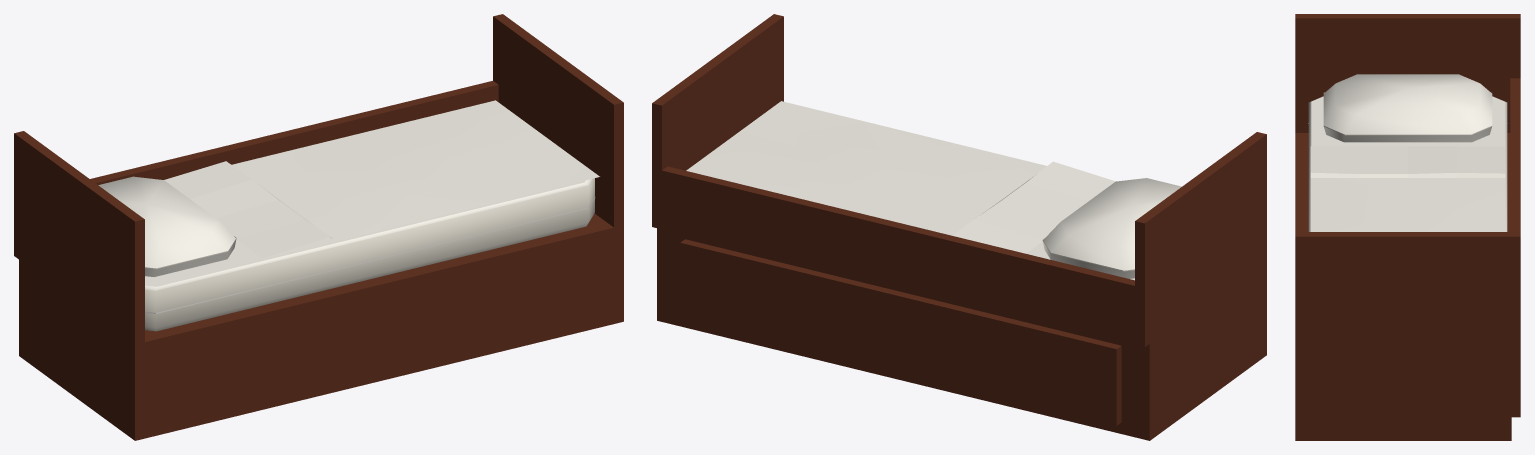
Rendered from parametric-sized-berth-l175-1st.glb.
3 renders of one model, left to right at view 1: azimuth 30°, elevation 25°; view 2: azimuth 150°, elevation 25°; view 3: azimuth 270°, elevation 25°, orthographic. The views are drawn at different scales.
Visible parts, largest first — view 1: parametric-sized-berth-l175-1st; view 2: parametric-sized-berth-l175-1st; view 3: parametric-sized-berth-l175-1st.
Boxes of the visible parts, bbox=[...] form: parametric-sized-berth-l175-1st: bbox=[14, 14, 623, 440]; parametric-sized-berth-l175-1st: bbox=[652, 14, 1266, 440]; parametric-sized-berth-l175-1st: bbox=[1295, 14, 1520, 440].
Size of the model in its own units: 1.75 by 0.75 by 0.75.
